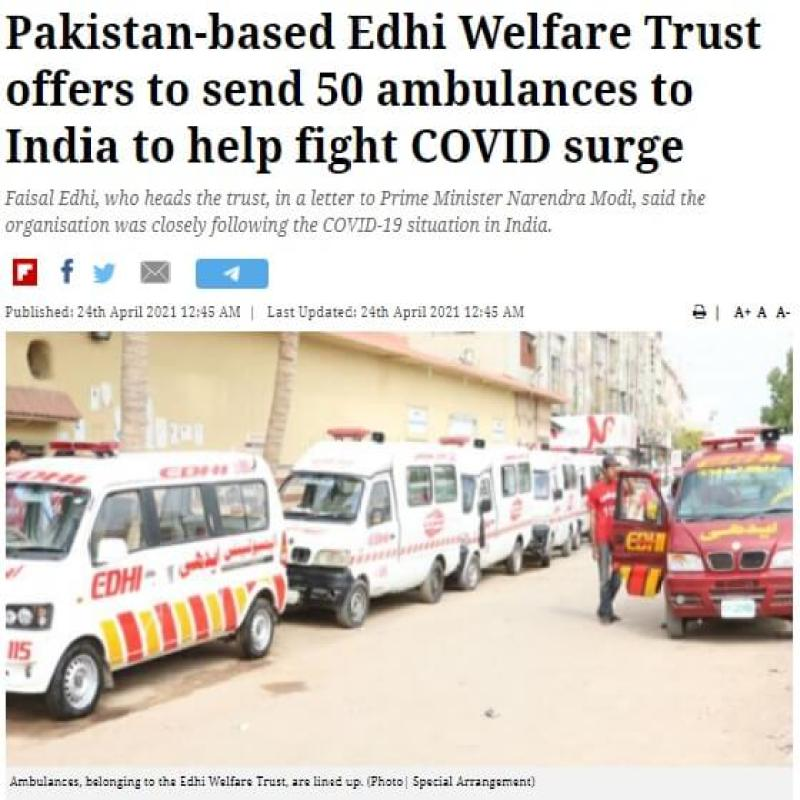ambulance: (0, 429, 289, 732), (240, 427, 472, 632), (422, 445, 544, 587)
